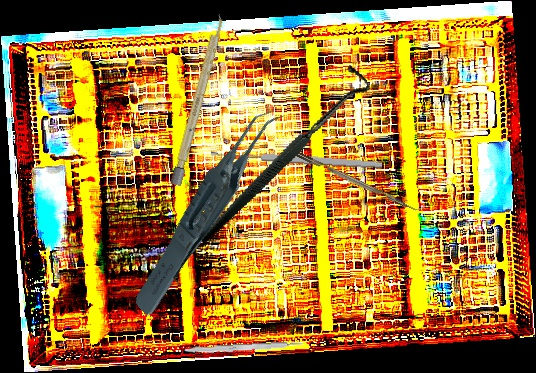Chopper: (294, 144, 426, 217)
Hook Surgical: (165, 60, 399, 245)
Scalpel Handle: (170, 12, 227, 187), (180, 340, 305, 356)
Surgical Spoon: (210, 148, 383, 170)
Tissue Forceps: (97, 101, 324, 319)
